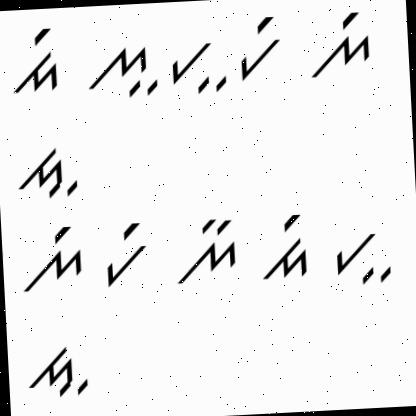dah: (10, 132, 80, 200), (22, 338, 88, 400)
dang: (8, 20, 66, 98), (256, 210, 311, 292)
nah: (166, 209, 242, 288), (77, 36, 160, 105)
nang: (13, 218, 86, 294), (307, 8, 378, 80)
pah: (330, 222, 395, 288), (169, 34, 233, 96)
pang: (238, 13, 288, 92), (99, 214, 151, 289)
